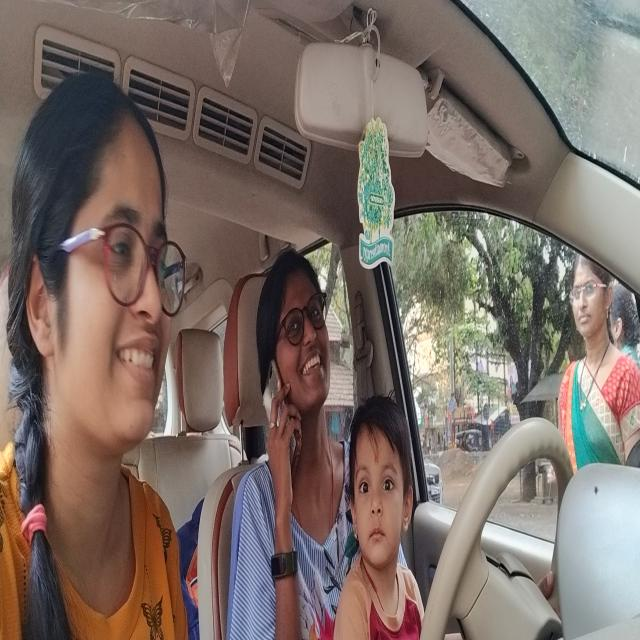child: (346, 393, 415, 578)
mobile: (262, 347, 300, 463)
person: (4, 53, 188, 457), (255, 241, 335, 429)
